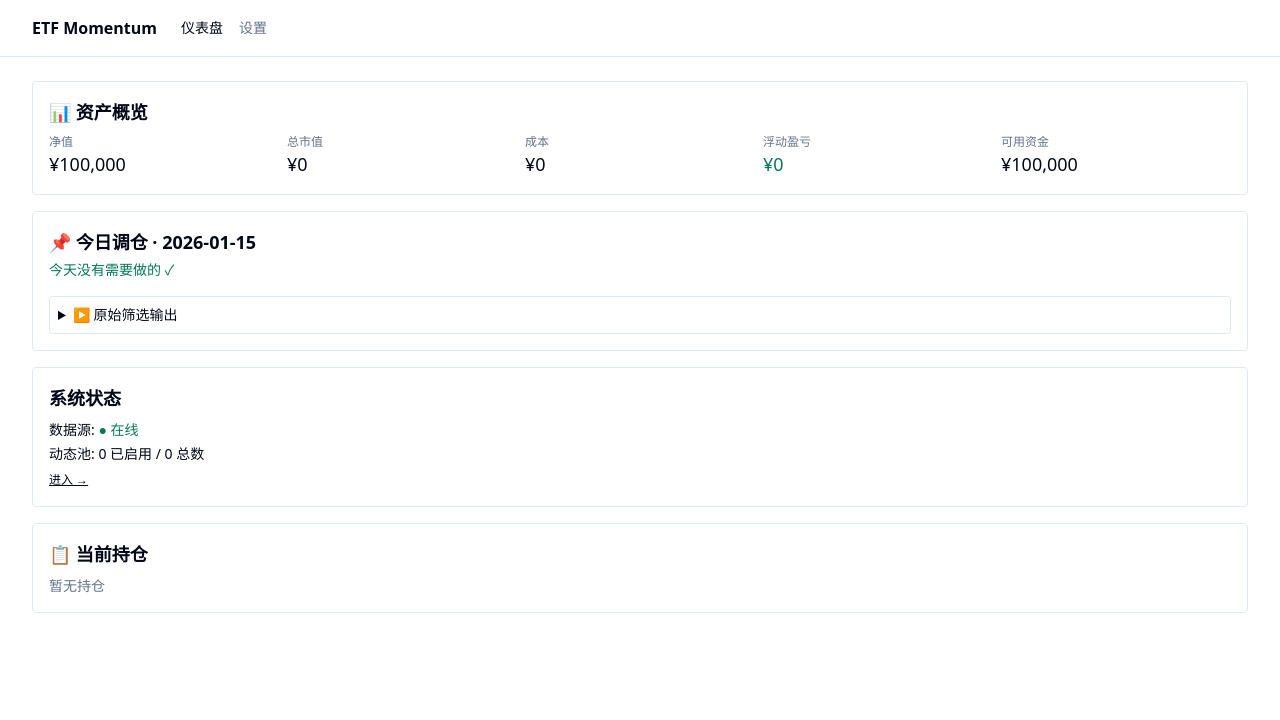
Test: App shell wiring › opens the sidebar when 设置 is clicked
Expected: the link "仪表盘" is shown, [181,18,223,38]
Click the button "设置". click: [253, 28]
box: [239,18,267,38]
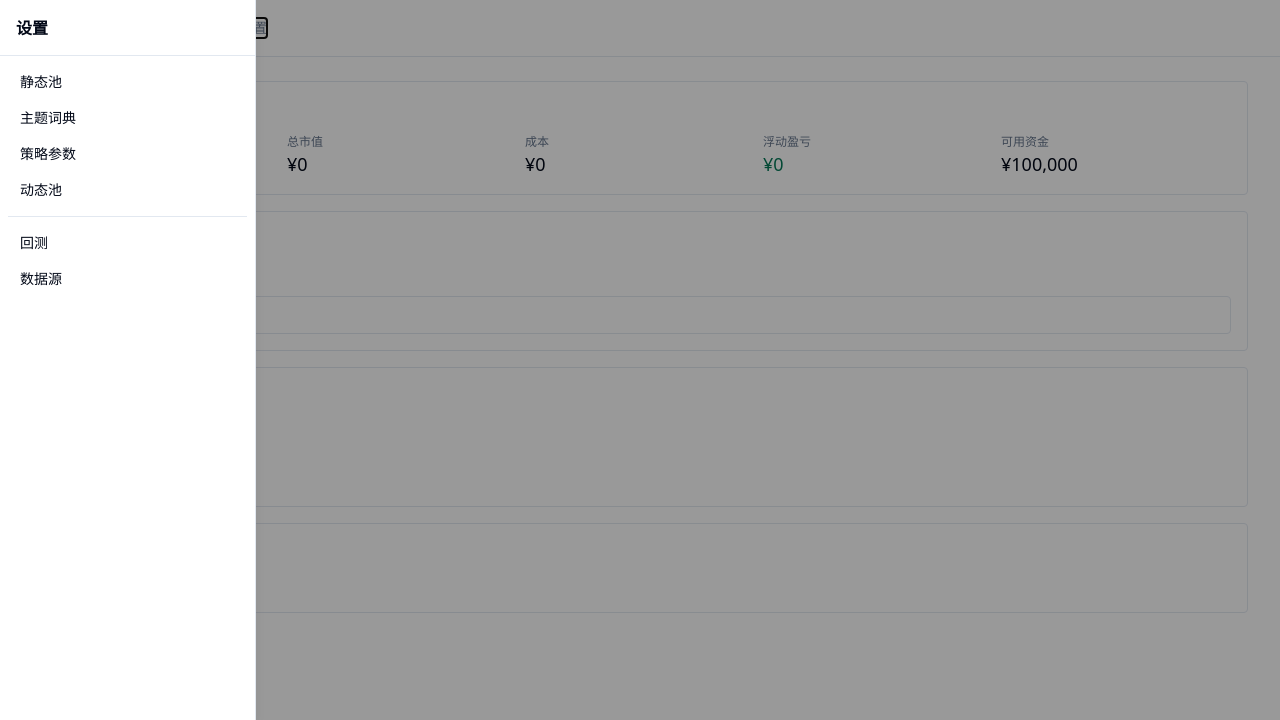
Expected: the link "静态池" is shown, [20,72,62,91]
Expected: the link "主题词典" is shown, [20,108,76,127]
Expected: the link "动态池" is shown, [20,180,62,199]
